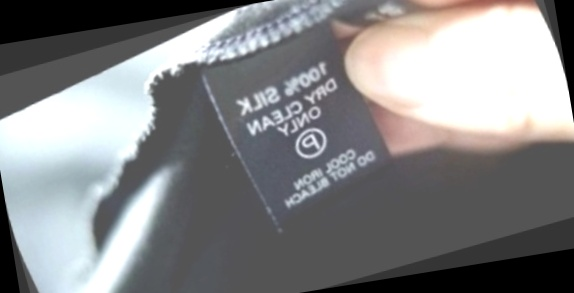dry_clean_any_solvent_except_trichloroethylene: (279, 113, 341, 173)
